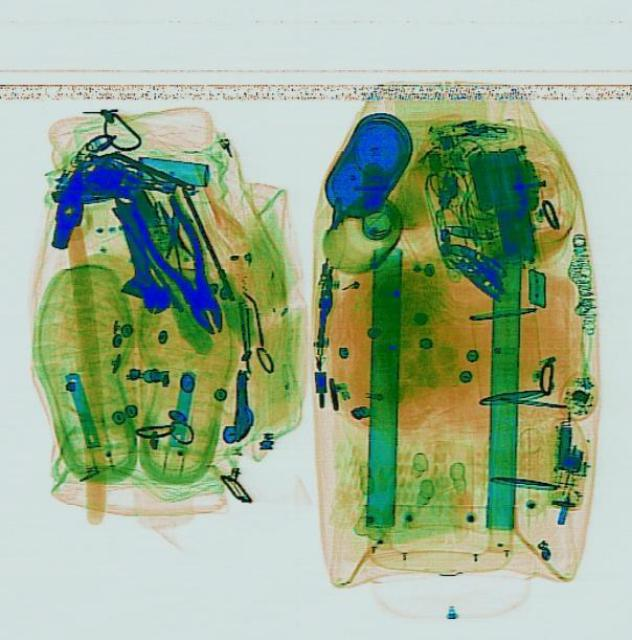Pliers: (128, 188, 239, 342)
Wrench: (94, 182, 173, 318)
